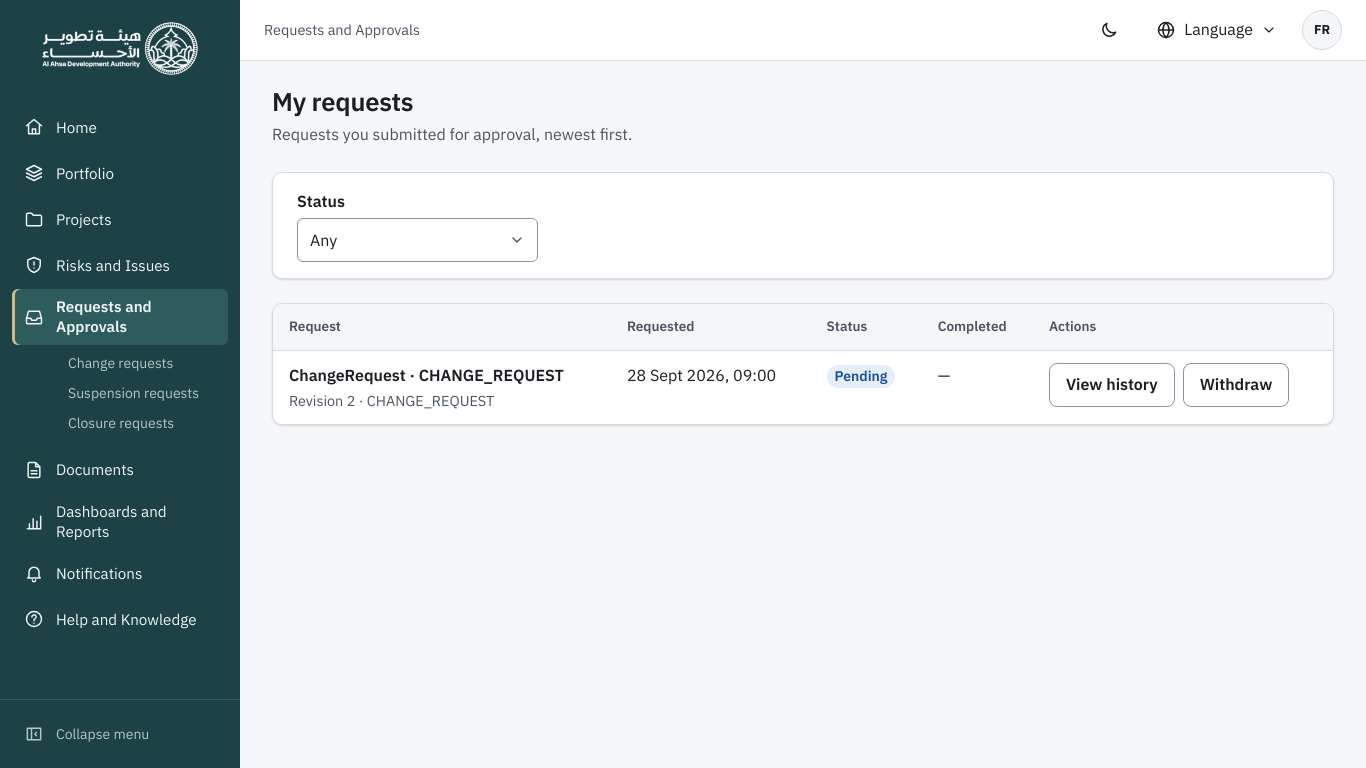
Scenario: SCR-101 My Requests › a request already decided cannot be withdrawn, and the dialog says why
Click the button "Withdraw" at (1236,385), box [1183,363,1289,407]
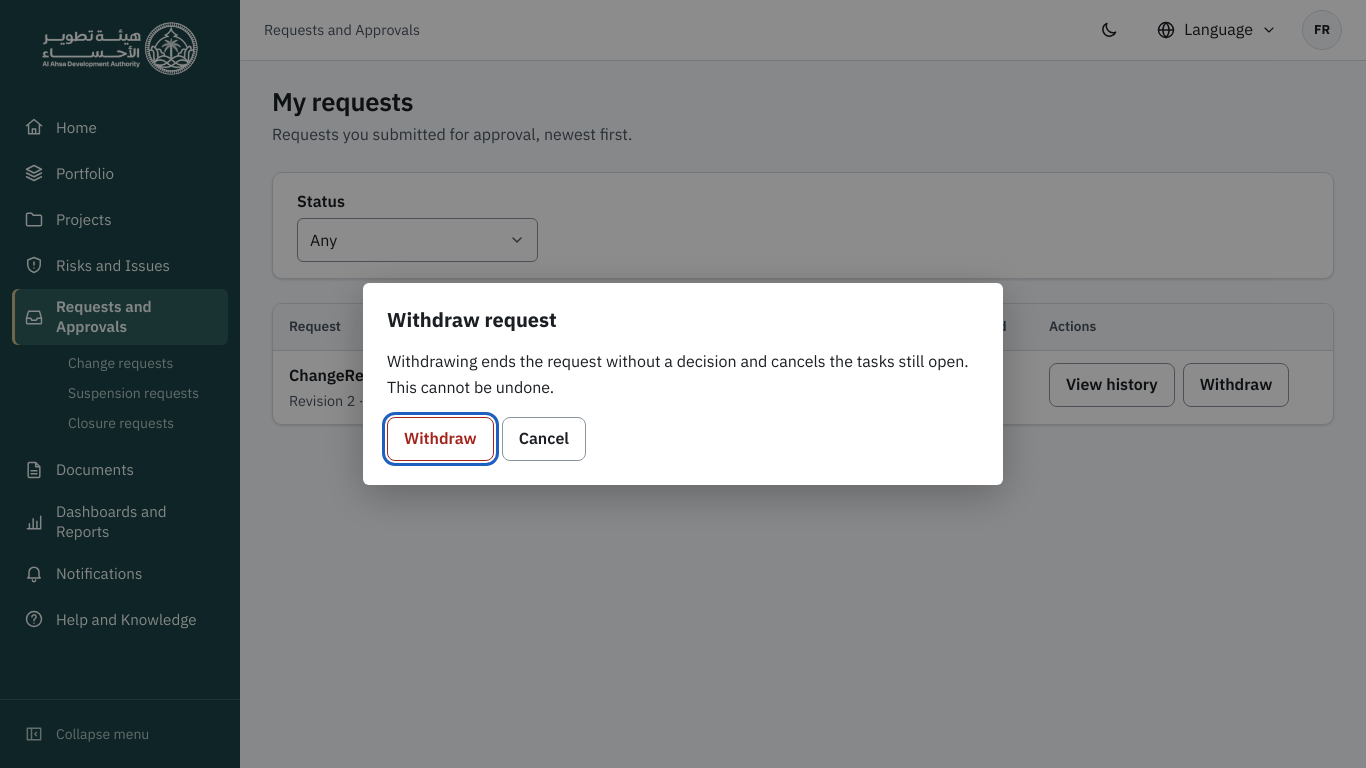
Click the button "Withdraw" at (440,439), box [387,417,494,461]
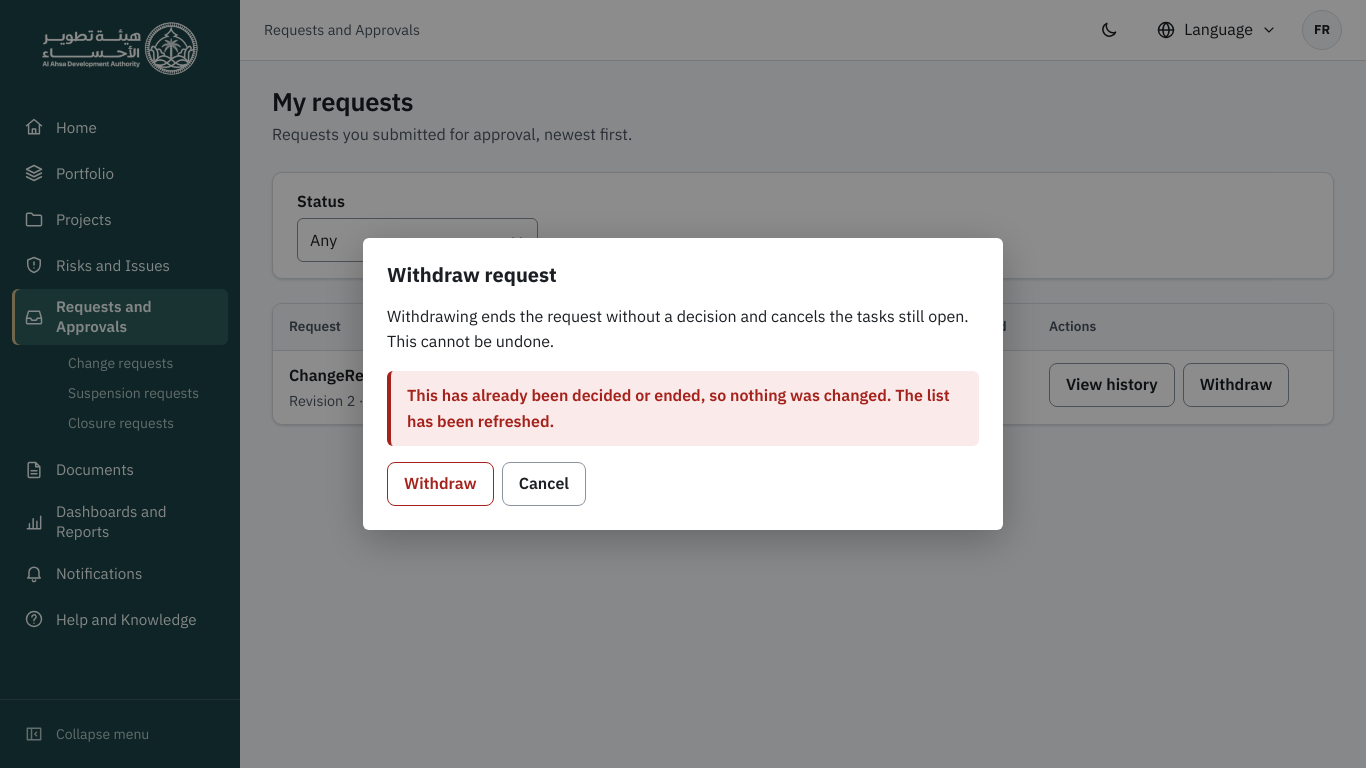
Result: the message shows "This has already been decided or ended, so nothing was changed. The list has been refreshed." at [407,385,950,431]
